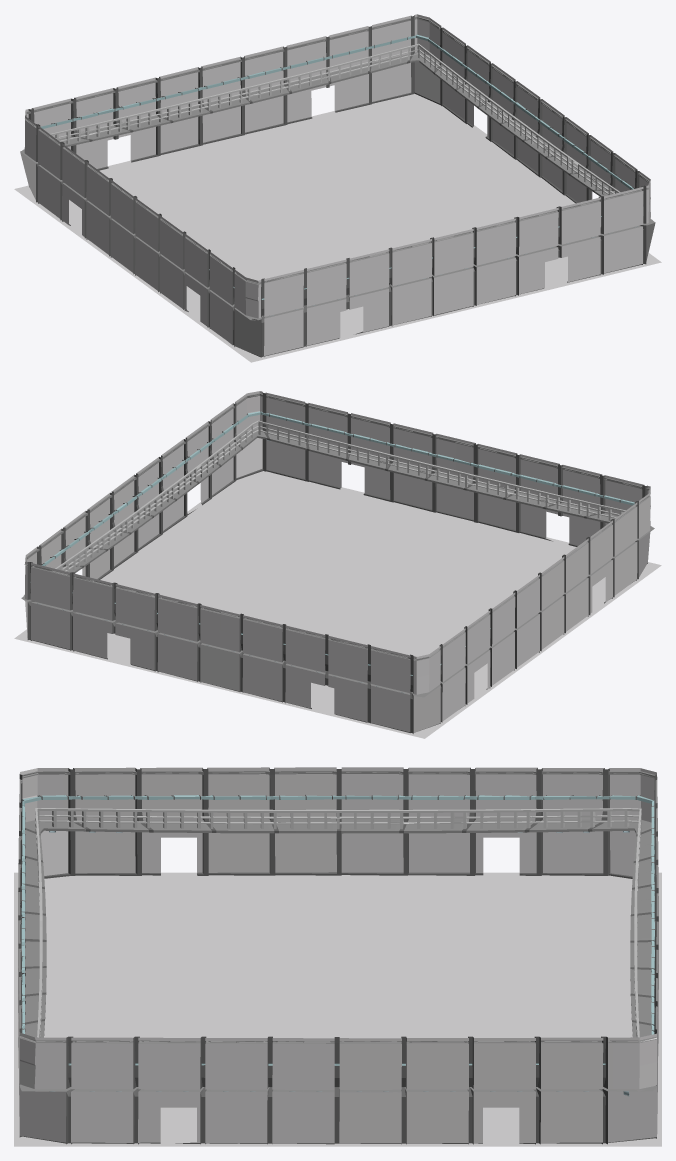
The model's file is m_BigRoom_Basic.fbx.
The picture shows the model from 3 angles, top to bottom: view 1: azimuth 30°, elevation 25°; view 2: azimuth 150°, elevation 25°; view 3: azimuth 270°, elevation 25°; orthographic projection. The views are drawn at different scales.
Visible parts, largest first — view 1: m_Walls; view 2: m_Walls; view 3: m_Walls.
Boxes of the visible parts, <box> form: m_Walls: <box>14,14,661,362</box>; m_Walls: <box>14,391,661,738</box>; m_Walls: <box>14,767,661,1146</box>.
Size of the model in its own units: 3000 by 550 by 3000.
